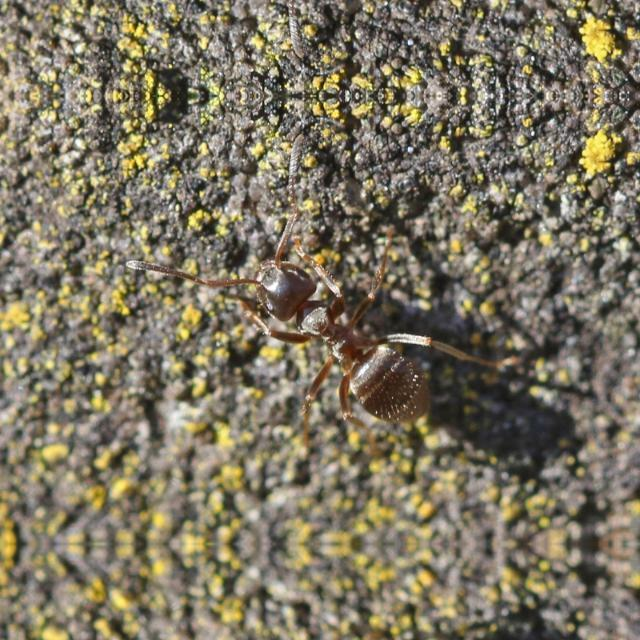Lasius: (200, 188, 482, 438)
